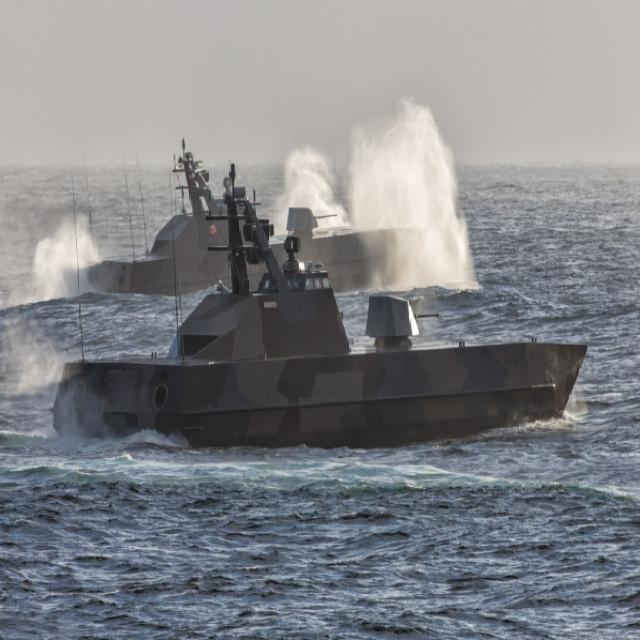navalvessels: (66, 224, 592, 464), (58, 131, 414, 303)
